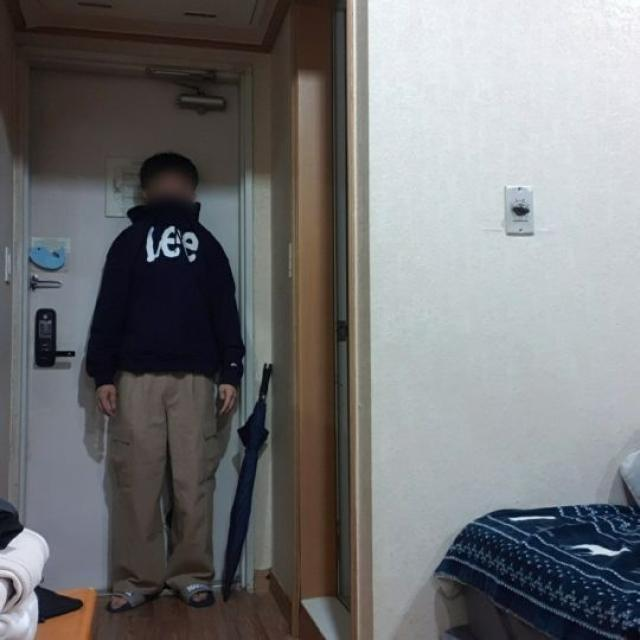cottonpants: (113, 376, 224, 594)
hoodies: (83, 195, 245, 388)
